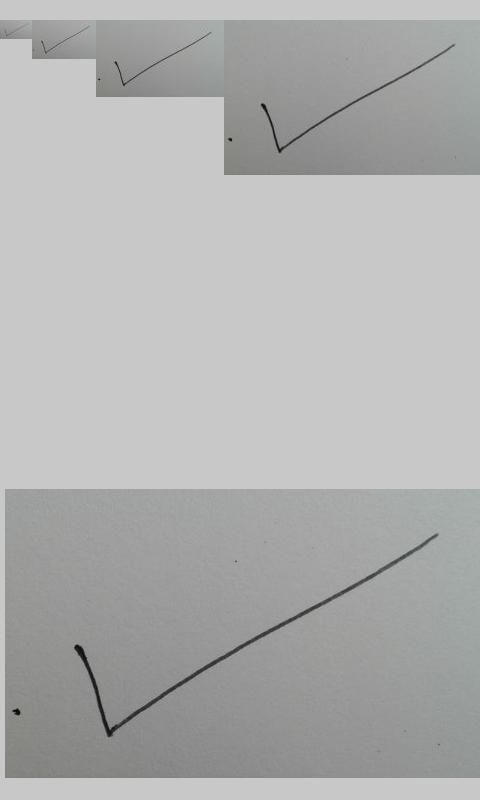check_box: (73, 533, 437, 737), (260, 45, 452, 154), (114, 33, 210, 86), (41, 30, 83, 54), (4, 24, 26, 37)
